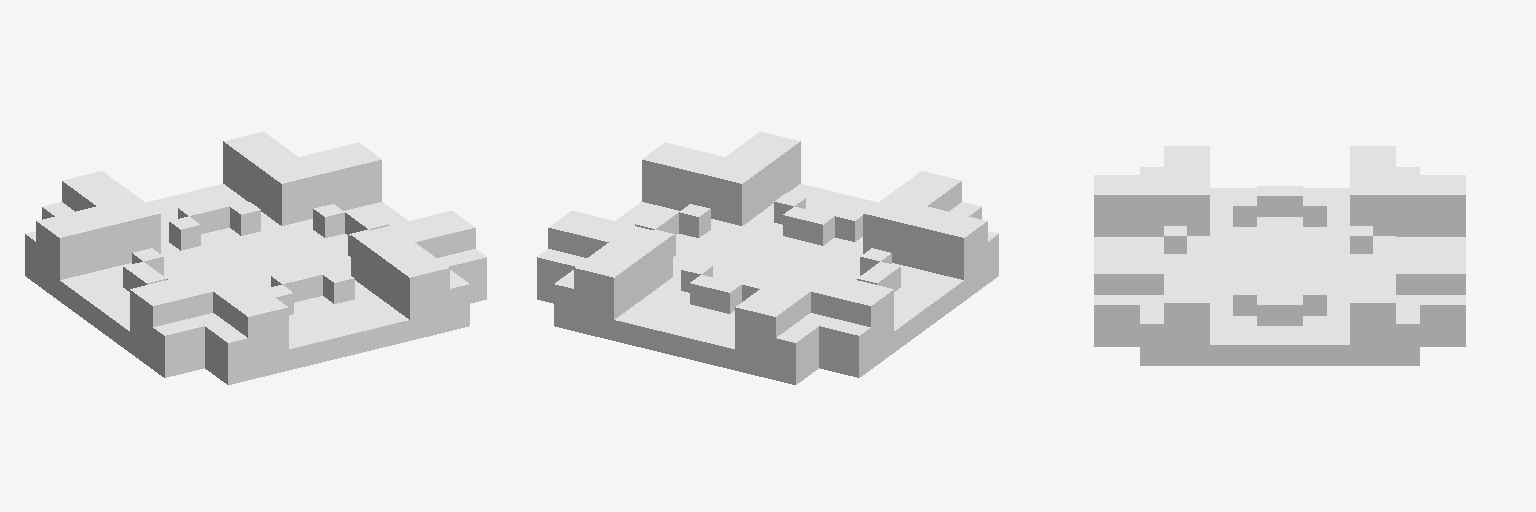
File: ConveyorCross.obj
The picture shows the model from 3 angles: view 1: azimuth 30°, elevation 25°; view 2: azimuth 150°, elevation 25°; view 3: azimuth 270°, elevation 25°; orthographic projection.
Visible parts, largest first — view 1: object 1; view 2: object 1; view 3: object 1.
Part boxes in pixels (x1,y1,x2,y2): object 1: (25,132,486,384); object 1: (537,132,998,384); object 1: (1094,146,1465,365).
Bounding box in the file's own units: 1.6 × 0.3 × 1.6.